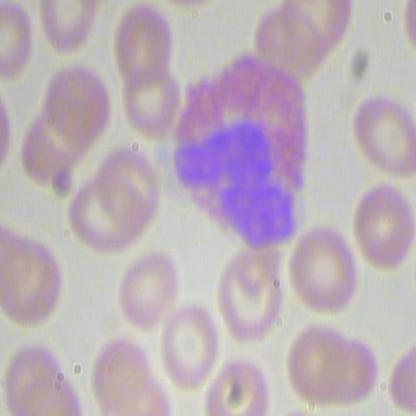RBC: (216, 242, 288, 348), (338, 176, 415, 267), (281, 223, 358, 313), (91, 141, 168, 230), (36, 57, 112, 146), (105, 1, 182, 88), (1, 234, 76, 322), (348, 87, 415, 179), (117, 244, 177, 334), (160, 298, 220, 388)
WBC: (163, 48, 313, 250)
